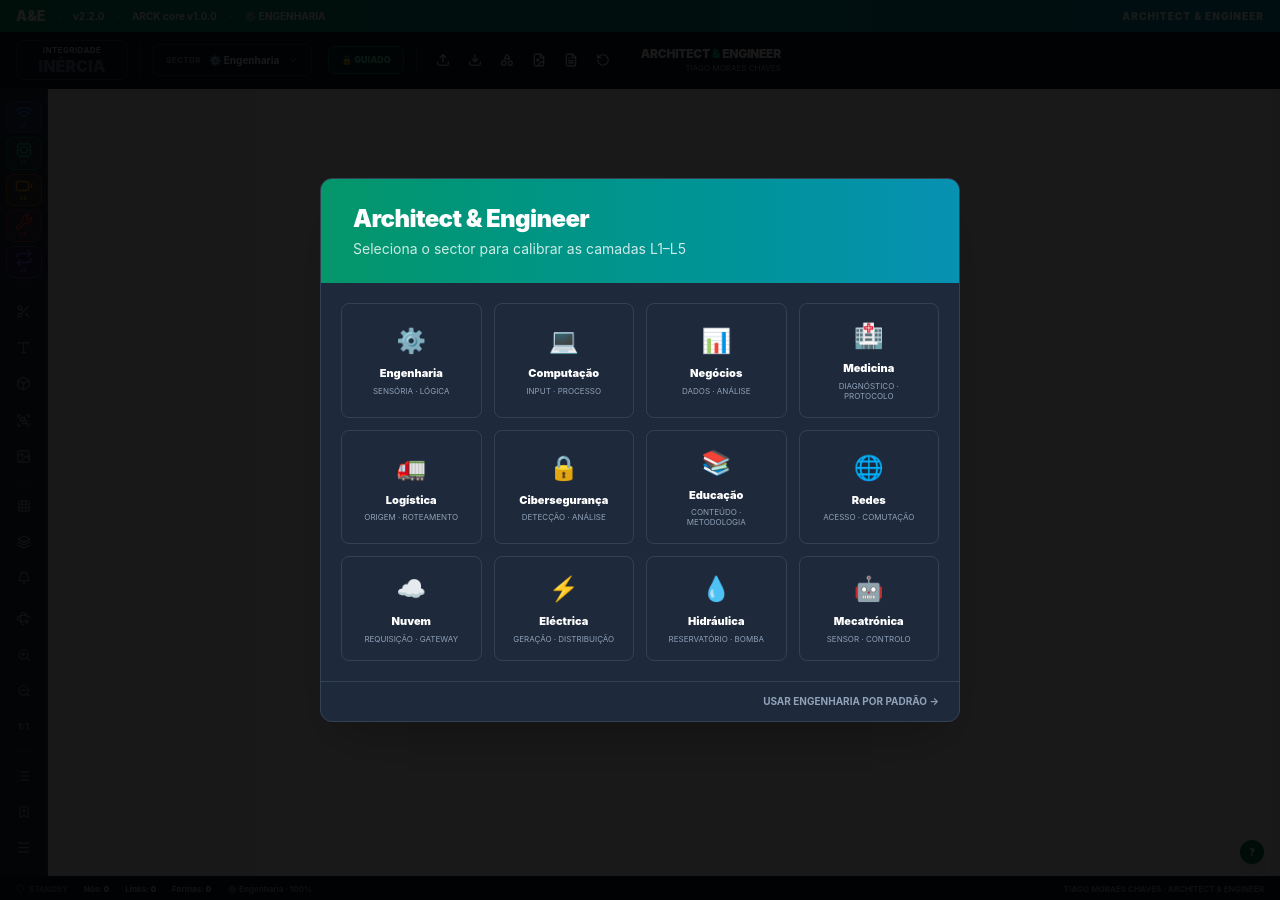
Test: App + reducer do projecto › mudar de sector renomeia as camadas na sidebar
This screenshot has width=1280, height=900.
Click the button "USAR ENGENHARIA POR PADRÃO →" at [851, 701], box [763,694,939,709]
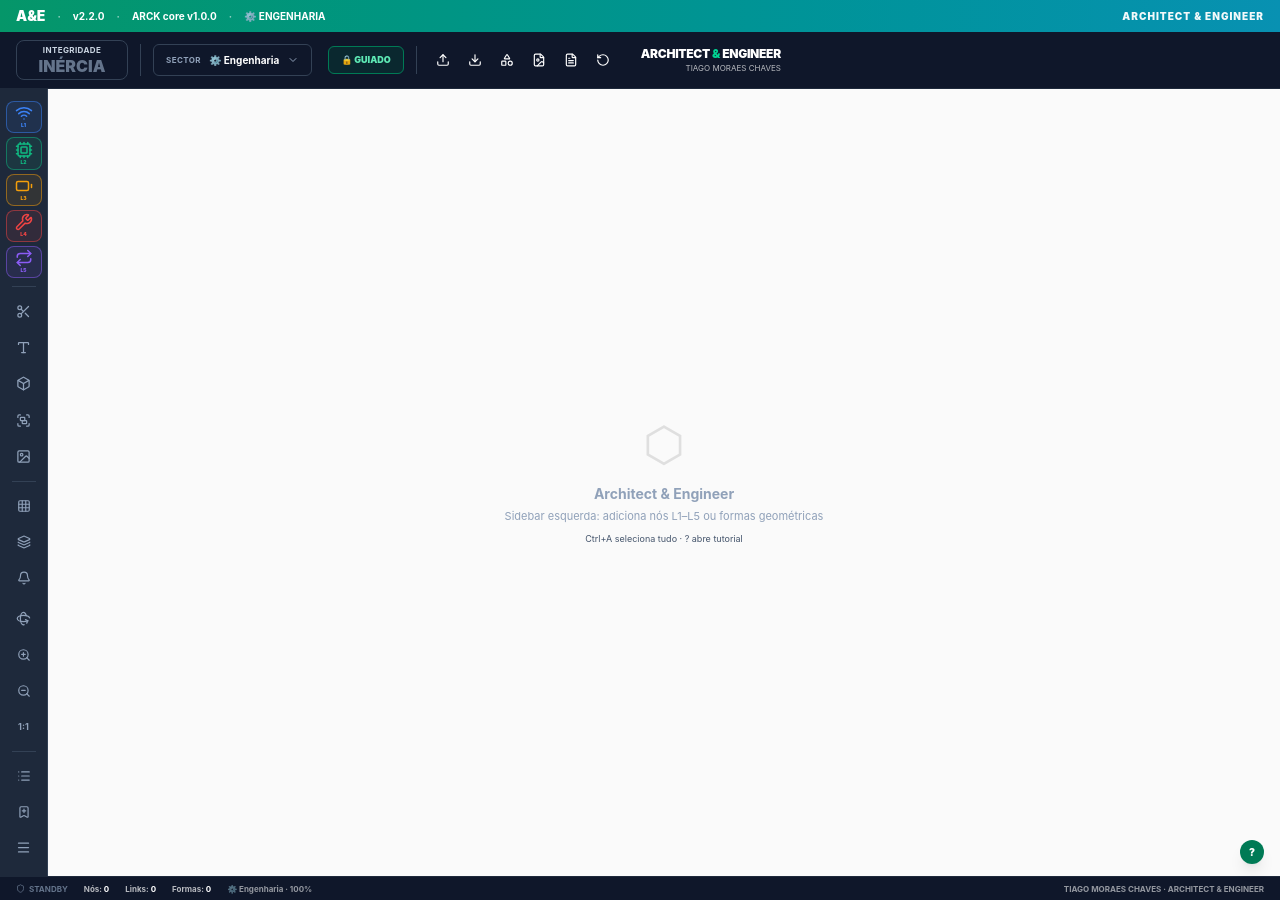
Expected: the button titled "Adicionar SENSÓRIA" is shown, [6,101,42,133]
Click the button titled "Mudar de sector" at [233, 60], box [153,44,312,76]
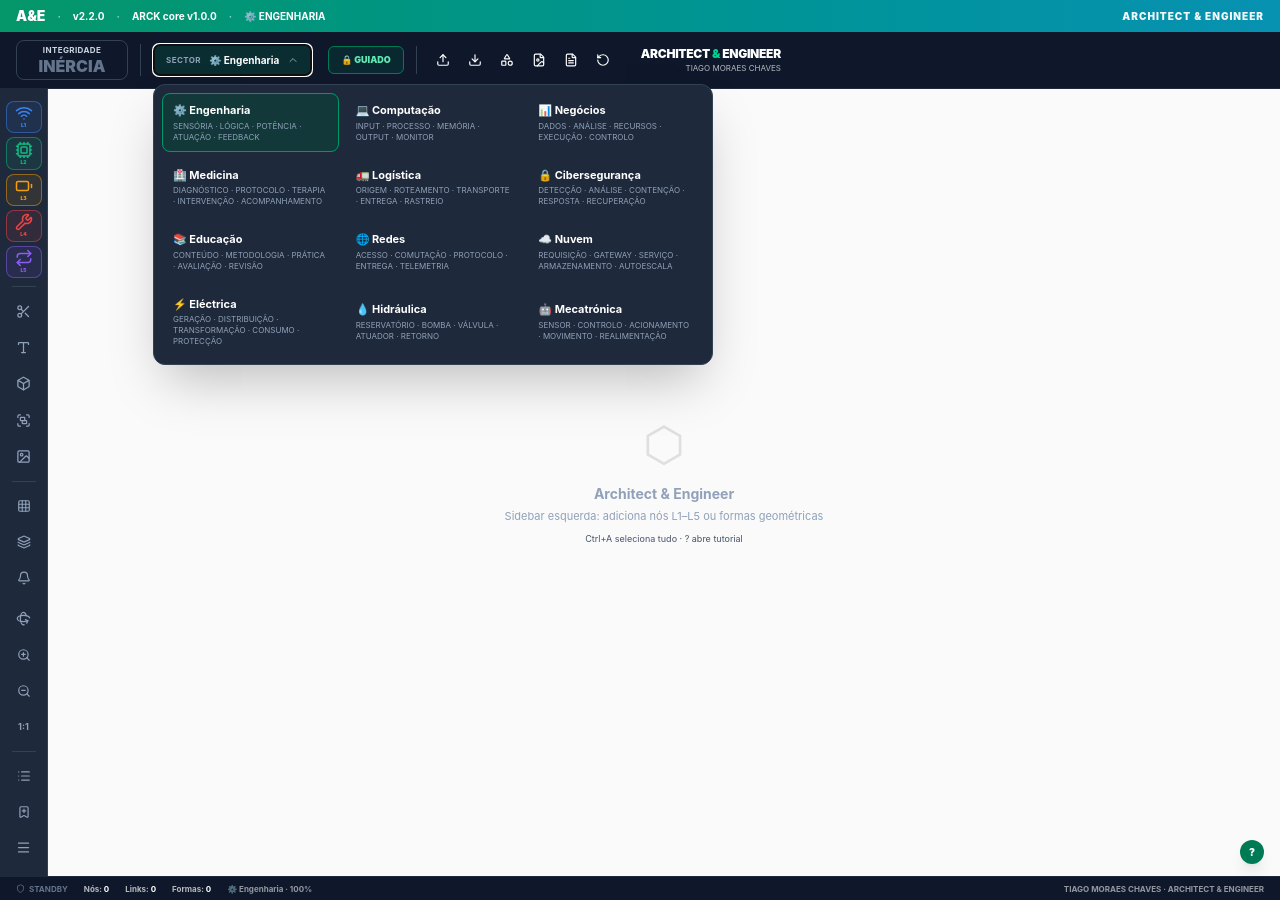
Click the option "Medicina" at [250, 187], box [162,158,339,216]
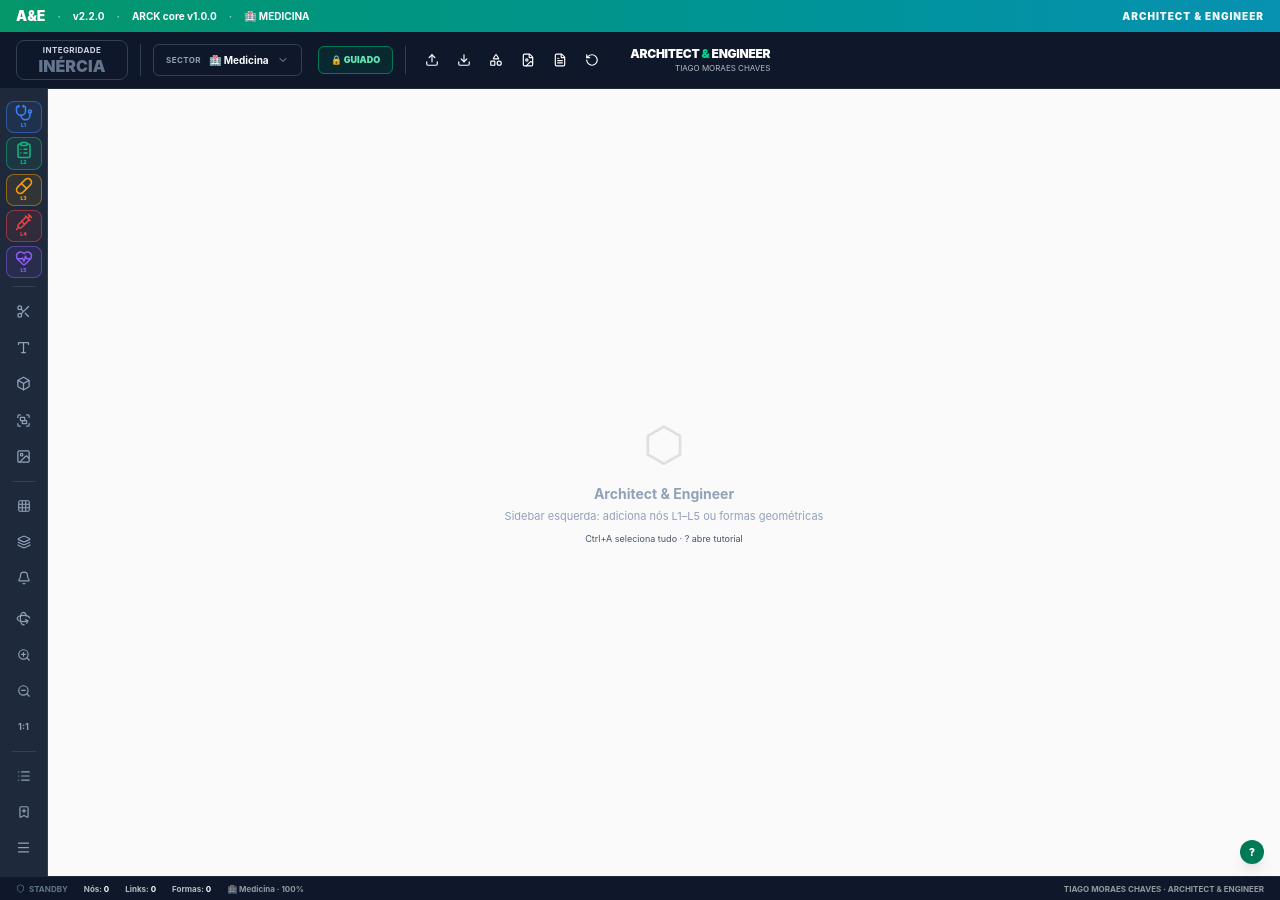
Expected: the button titled "Adicionar DIAGNÓSTICO" is shown, [6,101,42,133]
